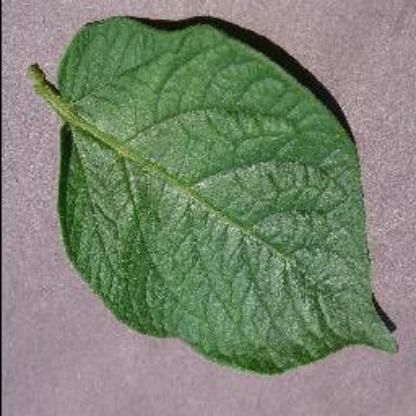Healthy-plant: (29, 7, 396, 373)
